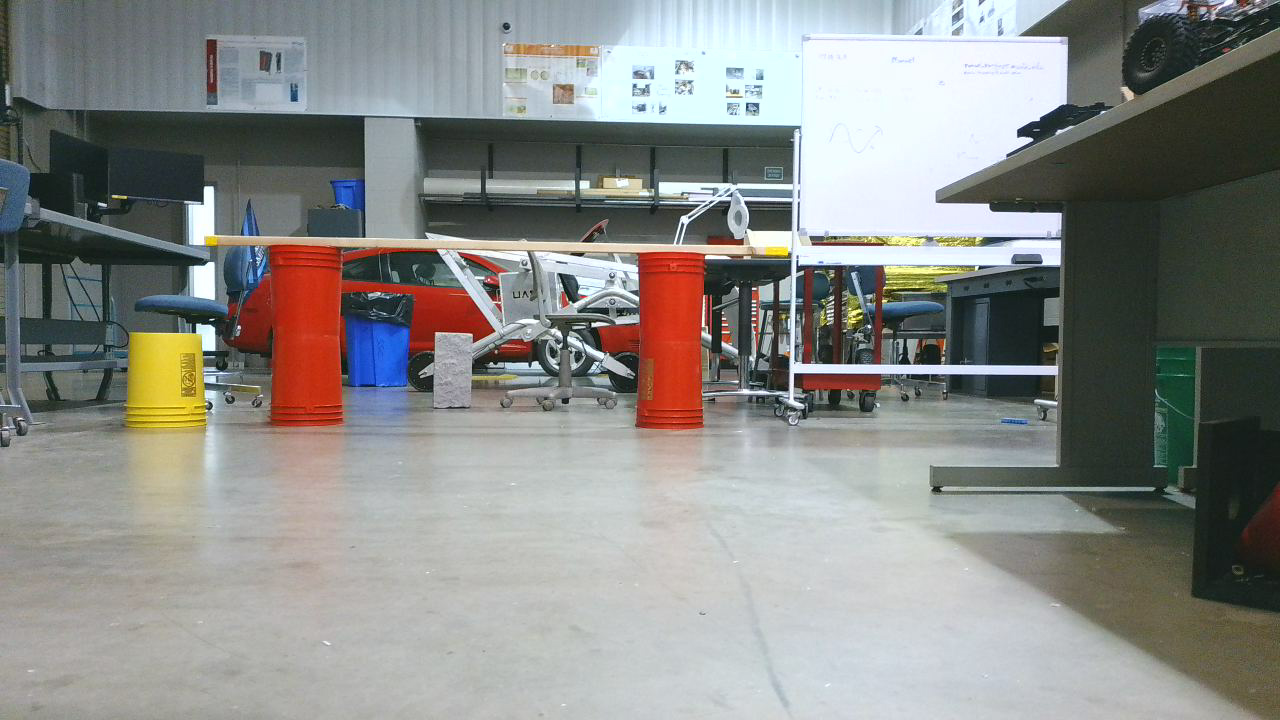red_bucket_arch: (271, 247, 711, 434)
yellow_bucket: (132, 338, 214, 432)
